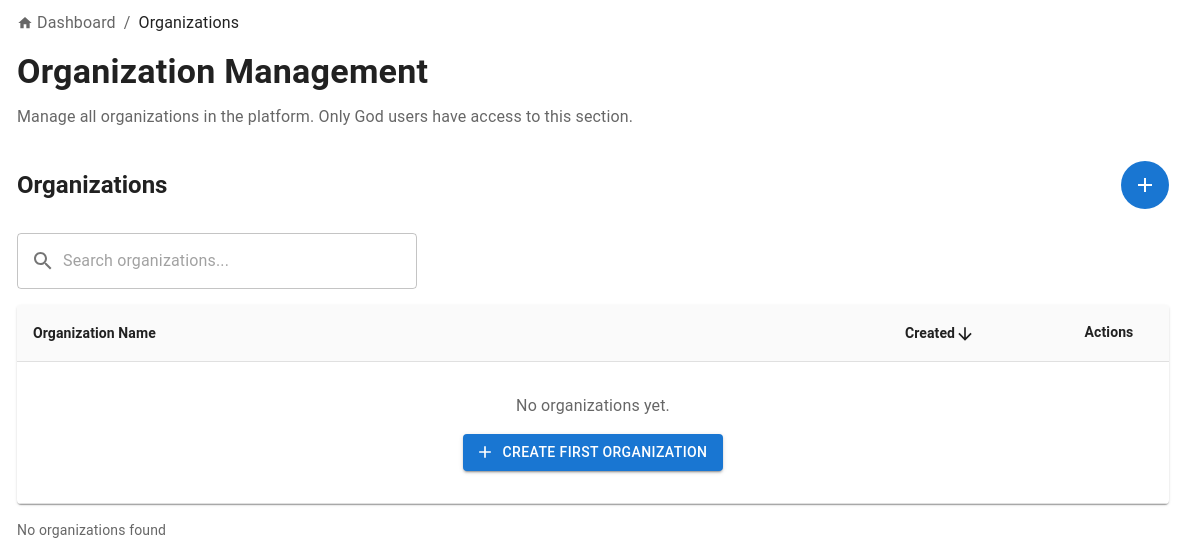
it: OrganizationsPage Integration Tests › Search Functionality › should show no results message for non-matching search
Type "NonExistentOrganization" into the field with placeholder "Search organizations..." at (240, 261), box top-left (63, 233), bottom-right (417, 289)
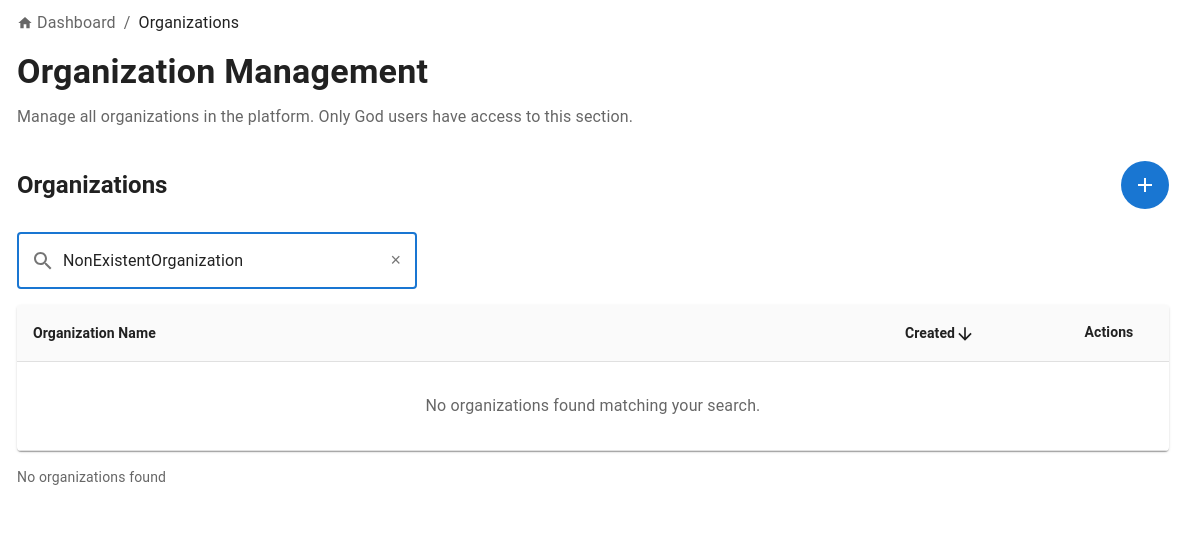
Expected: the text "No organizations found matching your search." is shown, top-left (426, 396), bottom-right (760, 415)
